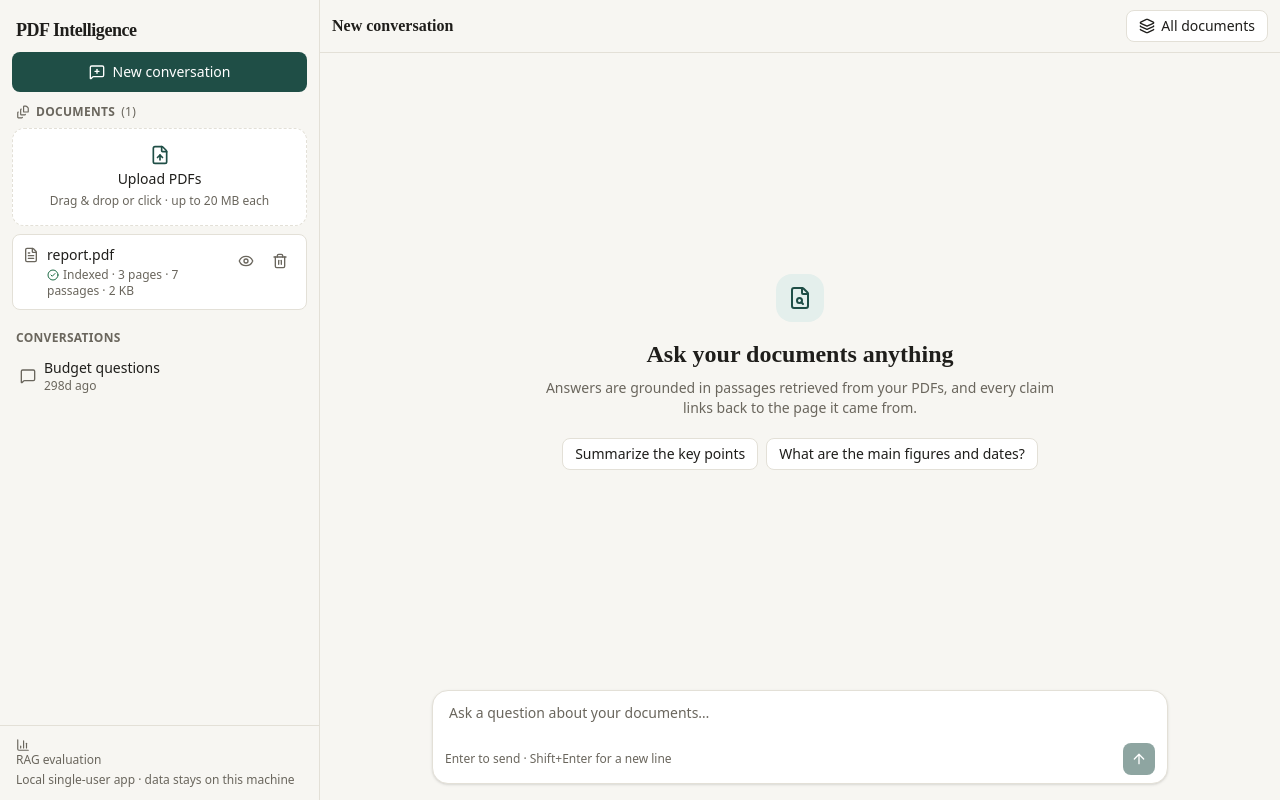
Workspace › shows an unavailable-source message when a citation's document no longer exists
The width and height of the screenshot is (1280, 800).
Click the button "Budget questions 298d ago": (160, 376) x1=12 y1=350 x2=307 y2=402
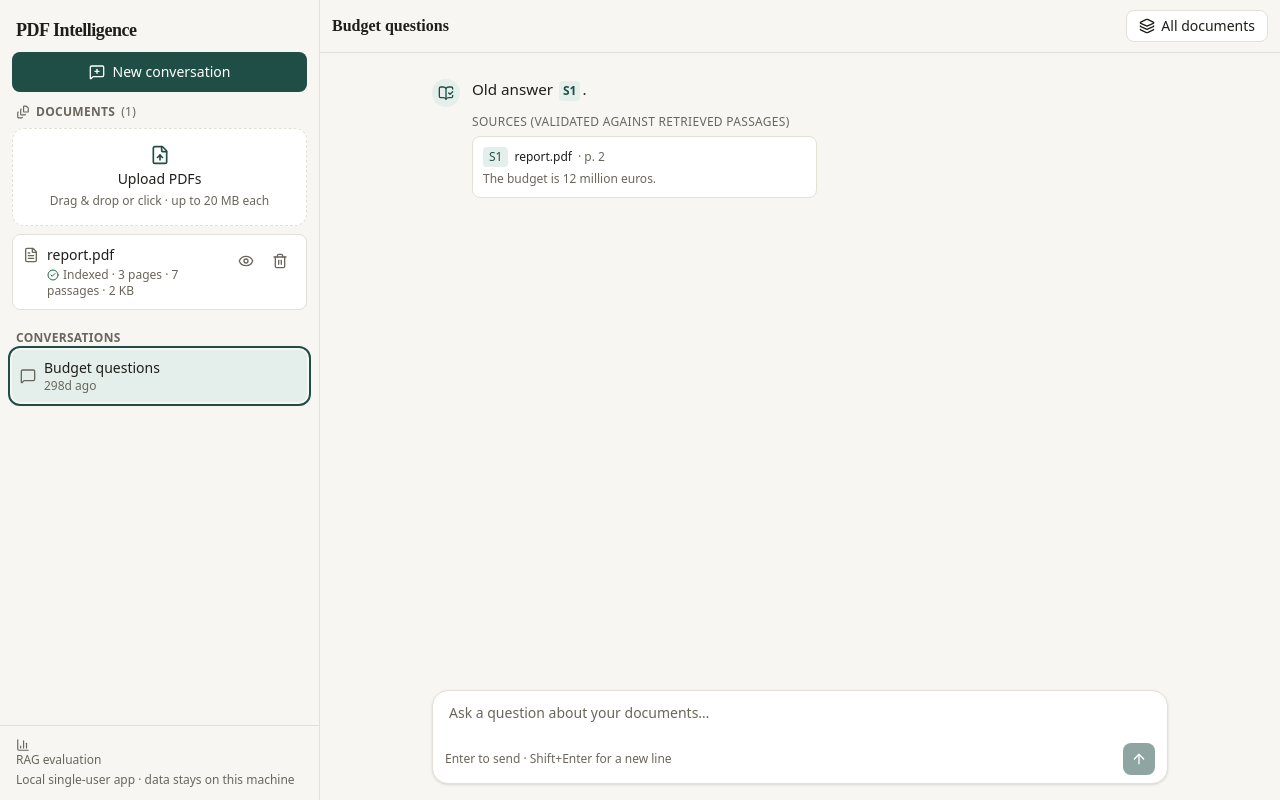
Click the button named "Open source S1": (570, 91) x1=559 y1=81 x2=580 y2=101
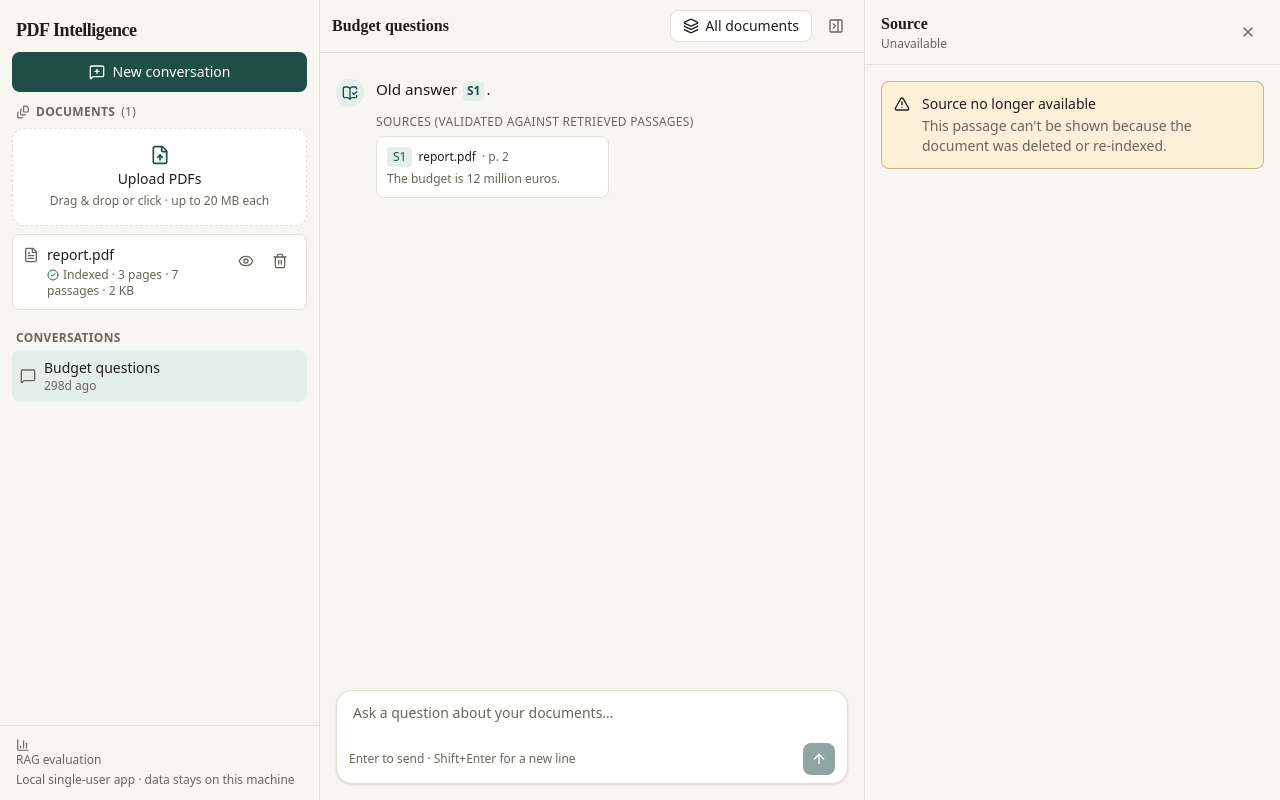
Expected: the text "Source no longer available" is shown, x1=922 y1=94 x2=1096 y2=113
